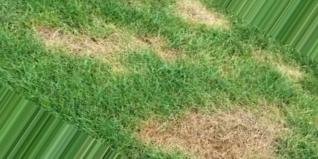patch: (141, 133, 271, 158), (250, 48, 304, 99), (37, 26, 130, 53), (191, 109, 280, 132), (179, 3, 225, 31), (148, 38, 182, 63)
